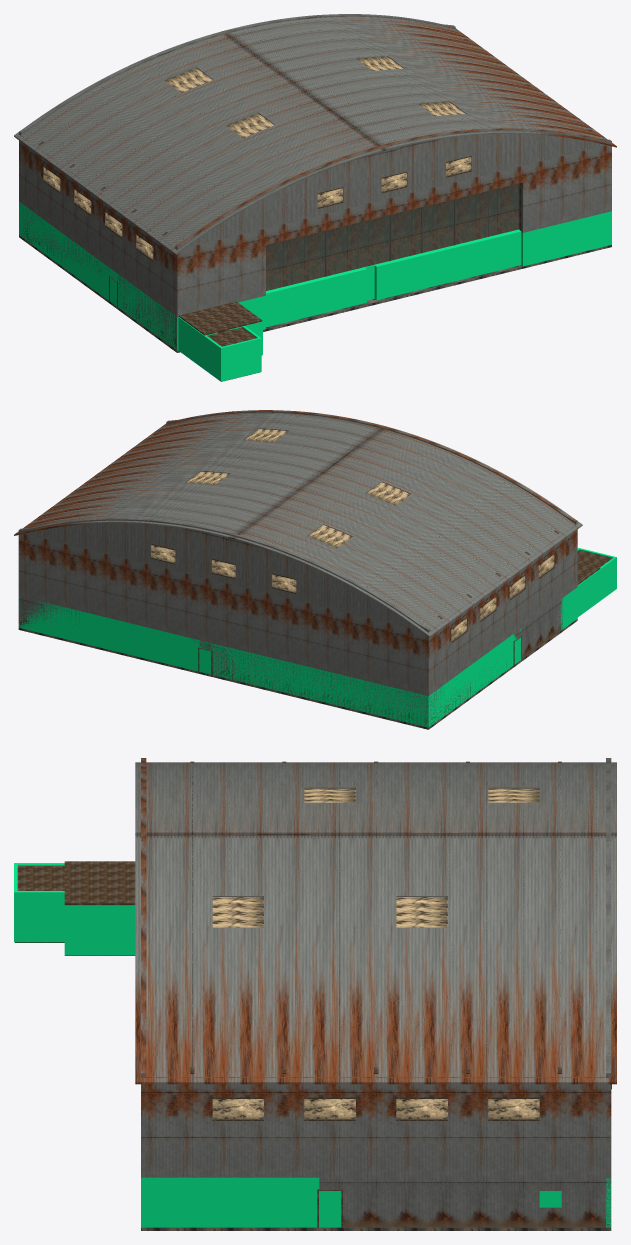
File: hangar_shell.glb
3 views of the same model, one above another, from view 1: azimuth 30°, elevation 25°; view 2: azimuth 150°, elevation 25°; view 3: azimuth 270°, elevation 25° (orthographic). The views are drawn at different scales.
Visible parts, largest first — view 1: Hangar_Roof, Hangar_Walls, Hangar_WindowGlass, SlidingDoor_4, COL_Wall_W_1, SlidingDoor_2, SlidingDoor_3, COL_Wall_S_3, SlidingDoor_1, COL_MainDoor_4, COL_Door_Main3, COL_MainDoor_1 (+9 smaller); view 2: Hangar_Roof, Hangar_Walls, COL_Wall_N_1, COL_Wall_N_2, Hangar_WindowGlass, COL_Wall_W_1, Hangar_Floor, Hangar_Timber, COL_Survey_W, Survey_Rooms, COL_Dark_W, COL_Wall_W_2; view 3: Hangar_Roof, Hangar_Walls, Hangar_WindowGlass, COL_Wall_E_2, Survey_Rooms, COL_Survey_E, COL_Dark_E, Hangar_Floor, Hangar_Timber, COL_Door_SideEast.
Part boxes in pixels (x1,y1,x2,y2): Hangar_Roof: (14,15,616,254); Hangar_Walls: (19,14,611,349); Hangar_WindowGlass: (43,56,471,259); SlidingDoor_4: (454,183,519,245); COL_Wall_W_1: (19,202,109,300); SlidingDoor_2: (325,215,389,276); SlidingDoor_3: (390,199,454,260); COL_Wall_S_3: (521,212,608,266); SlidingDoor_1: (266,230,325,290); COL_MainDoor_4: (455,229,521,280); COL_Door_Main3: (390,245,456,296); COL_MainDoor_1: (266,276,328,327); Hangar_Roof: (14,411,582,637); Hangar_Walls: (18,410,577,726); COL_Wall_N_1: (211,643,430,727); COL_Wall_N_2: (18,601,199,671); Hangar_WindowGlass: (151,429,554,641); COL_Wall_W_1: (425,634,514,727); Hangar_Floor: (18,619,577,729); Hangar_Timber: (37,433,559,674); COL_Survey_W: (577,569,600,617); Survey_Rooms: (577,550,612,584); COL_Dark_W: (600,557,616,600); COL_Wall_W_2: (559,588,575,630); Hangar_Roof: (135,762,616,1084); Hangar_Walls: (141,758,611,1227); Hangar_WindowGlass: (212,788,539,1119); COL_Wall_E_2: (141,1177,319,1227); Survey_Rooms: (15,861,135,955); COL_Survey_E: (64,905,135,955); COL_Dark_E: (17,891,64,942); Hangar_Floor: (141,1227,611,1230); Hangar_Timber: (190,761,611,1227); COL_Door_SideEast: (319,1191,341,1227).
Size of the model in its own units: 41.2 by 13.95 by 32.8.
16 materials, 8 textured.
